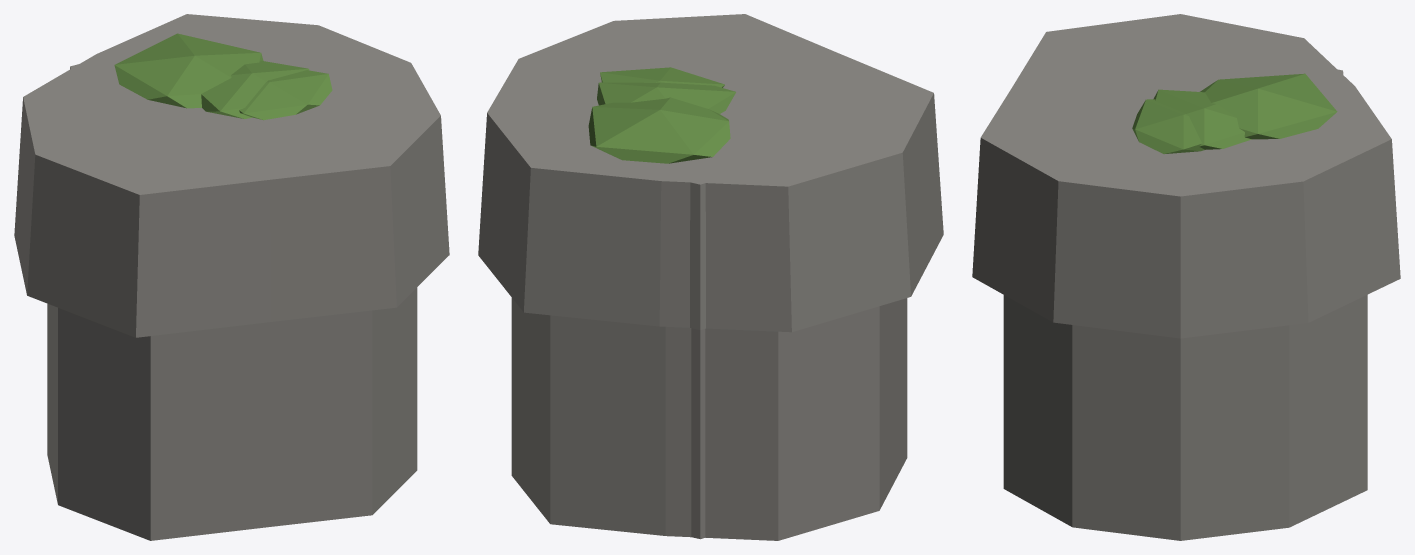
The model's file is stepstone.fbx.
The picture shows the model from 3 angles, left to right: view 1: azimuth 30°, elevation 25°; view 2: azimuth 150°, elevation 25°; view 3: azimuth 270°, elevation 25°; orthographic projection. The views are drawn at different scales.
Visible parts, largest first — view 1: Step3_Stone, Step1_Stone, Step3_Moss, Step2_Stone, Step2_Moss, Step1_Moss; view 2: Step3_Stone, Step1_Stone, Step3_Moss, Step2_Stone, Step1_Moss, Step2_Moss; view 3: Step3_Stone, Step1_Stone, Step2_Stone, Step3_Moss, Step1_Moss, Step2_Moss.
Part boxes in pixels (x1,y1,x2,y2): Step3_Stone: [14, 14, 449, 540]; Step1_Stone: [70, 41, 385, 173]; Step3_Moss: [114, 33, 263, 108]; Step2_Stone: [74, 50, 381, 173]; Step2_Moss: [239, 70, 332, 120]; Step1_Moss: [201, 60, 309, 118]; Step3_Stone: [478, 14, 943, 540]; Step1_Stone: [547, 25, 853, 539]; Step3_Moss: [588, 97, 730, 163]; Step2_Stone: [565, 40, 862, 176]; Step1_Moss: [597, 82, 735, 113]; Step2_Moss: [600, 67, 724, 87]; Step3_Stone: [972, 14, 1400, 540]; Step1_Stone: [991, 49, 1346, 171]; Step2_Stone: [1050, 45, 1311, 164]; Step3_Moss: [1200, 73, 1337, 139]; Step1_Moss: [1153, 89, 1251, 149]; Step2_Moss: [1132, 99, 1204, 153].
Size of the model in its own units: 3.68 by 3.4 by 3.51.
